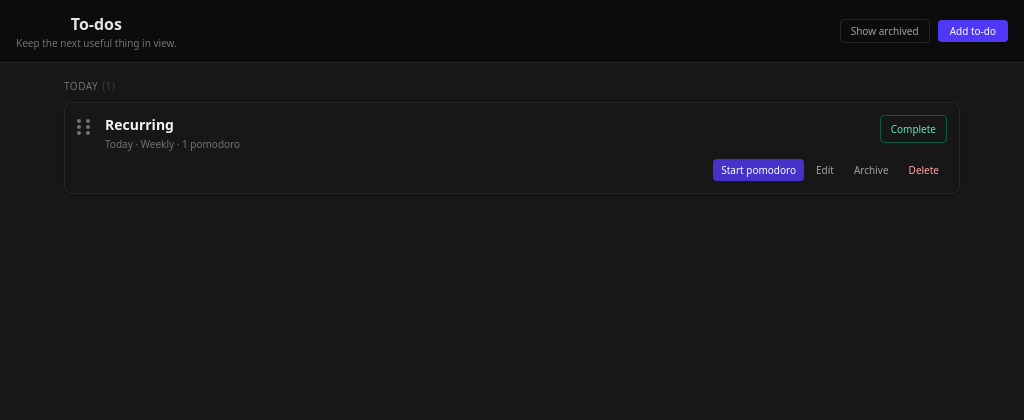
Scenario: TodosPage › creates a no-date item and rolls a recurring item on completion
The image size is (1024, 420).
Expected: the heading "Recurring" is shown, [105,115,174,134]
Click the button with aria-label "Complete Recurring" at (913, 129), box [880,115,947,143]
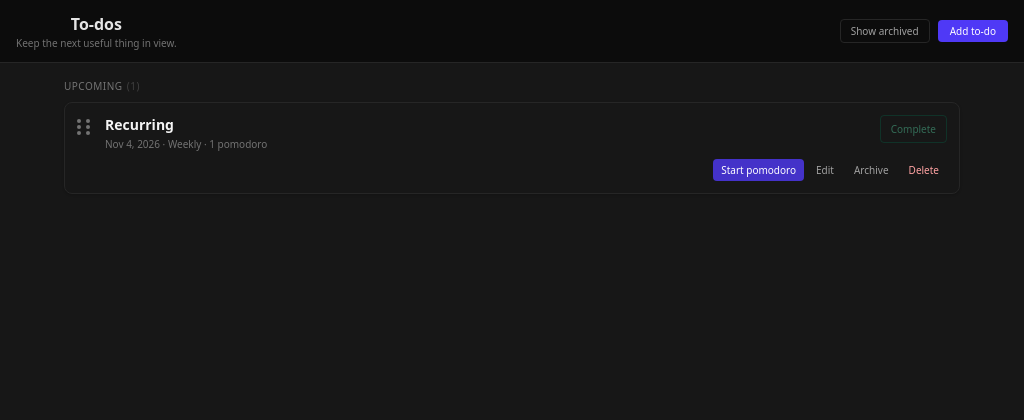
Click the button "Add to-do" at (973, 31), box [938,20,1008,42]
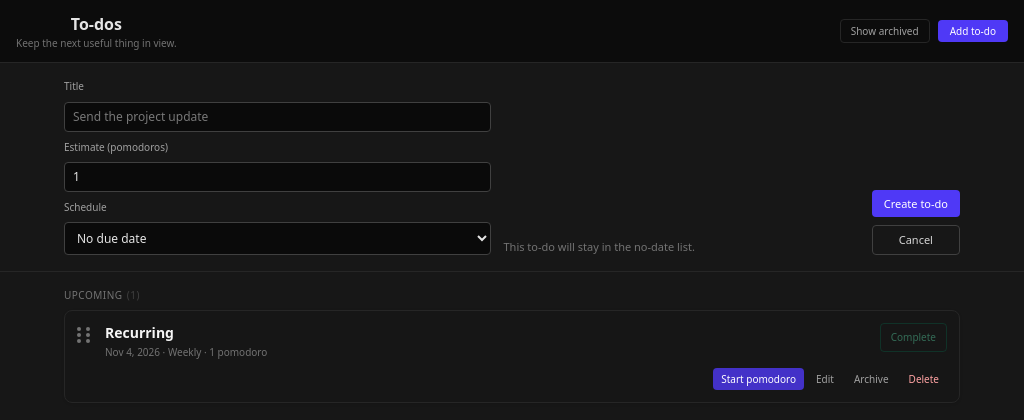
Type "Unscheduled" into the field labelled "Title" at (278, 117), box [64,102,492,132]
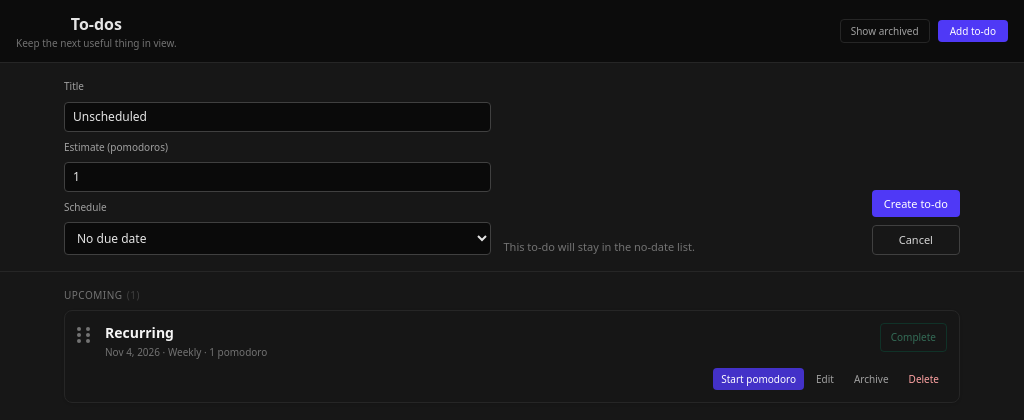
Click the button "Create to-do" at (916, 204), box [872,190,960,217]
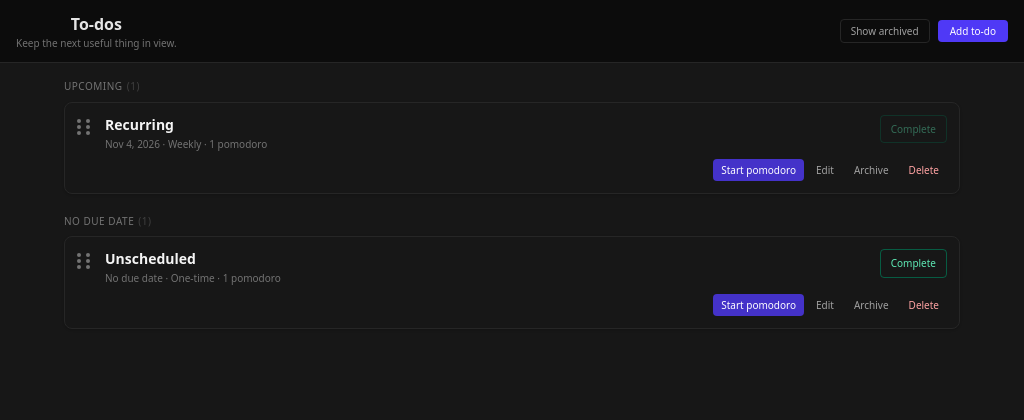
Expected: the heading "Unscheduled" is shown, [105,249,196,268]
Expected: the text "No due date · One-time · 1 pomodoro" is shown, [105,271,281,286]
